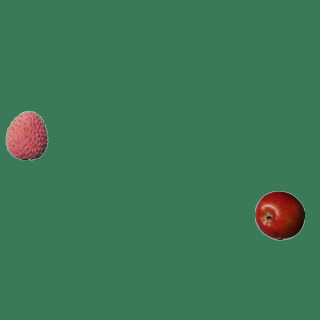Apple Braeburn: (254, 190, 304, 240)
Lychee: (1, 110, 51, 160)
